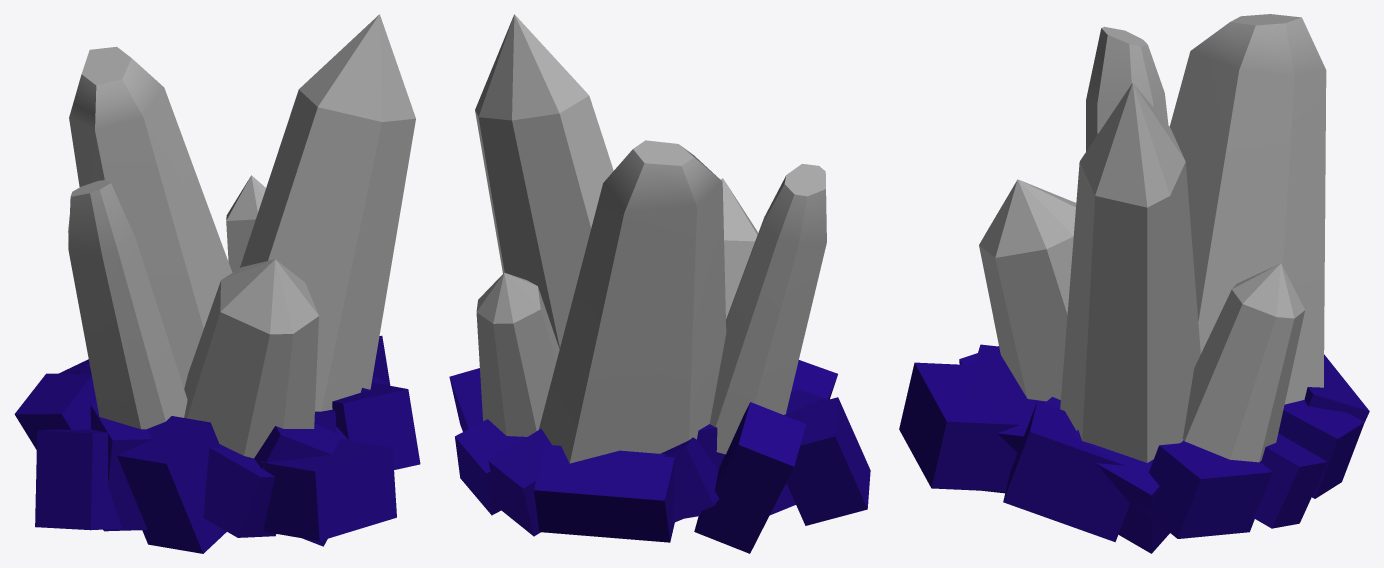
The model's file is SM_Crystals2.fbx.
The picture shows the model from 3 angles, left to right: view 1: azimuth 30°, elevation 25°; view 2: azimuth 150°, elevation 25°; view 3: azimuth 270°, elevation 25°; orthographic projection. The views are drawn at different scales.
Visible parts, largest first — view 1: Crystals2; view 2: Crystals2; view 3: Crystals2.
Part boxes in pixels (x1,y1,x2,y2): Crystals2: [14, 14, 420, 553]; Crystals2: [449, 14, 870, 553]; Crystals2: [899, 14, 1369, 553].
Bounding box in the file's own units: 229 × 260 × 226.
